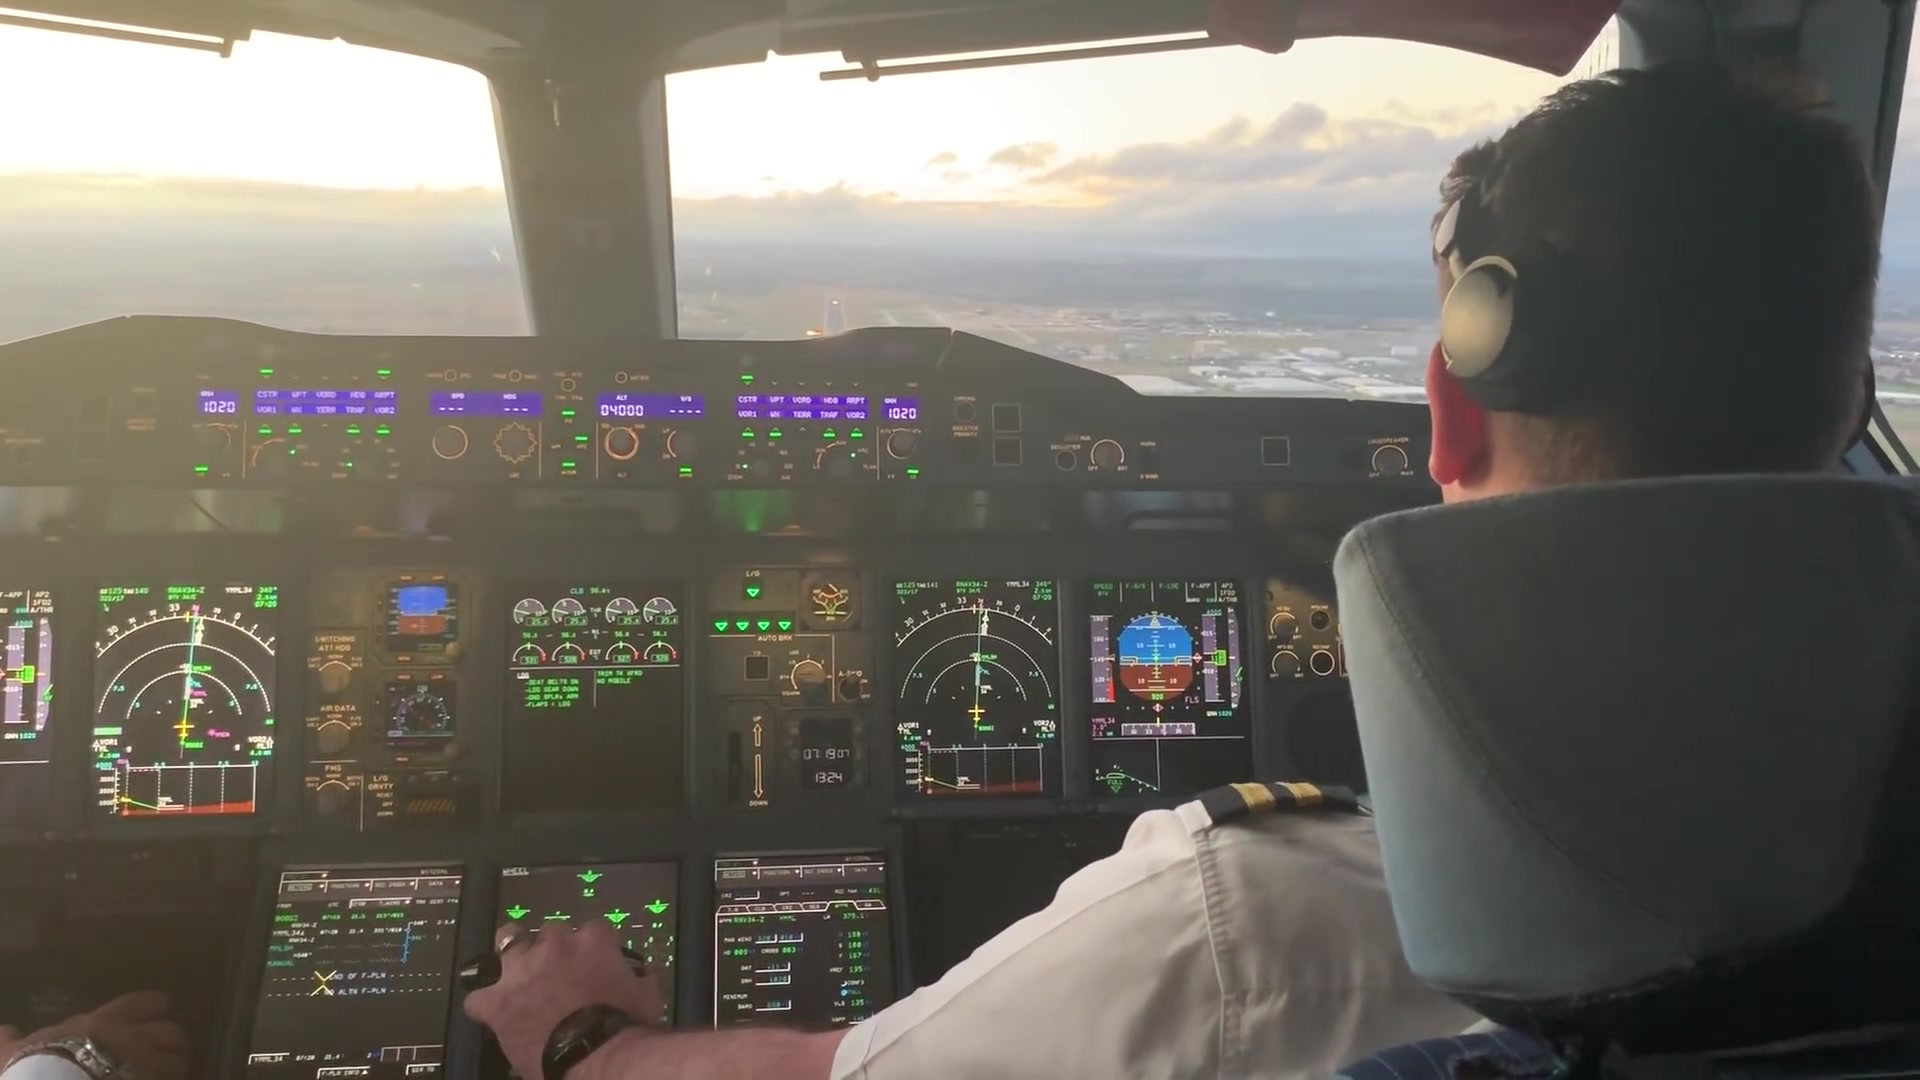runway: (822, 291, 849, 343)
